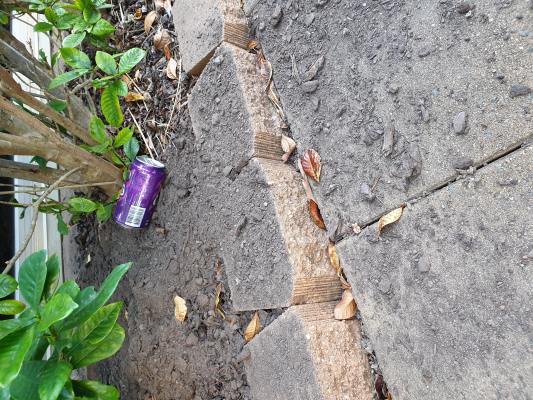Plastic Bottle: (112, 157, 165, 230)
